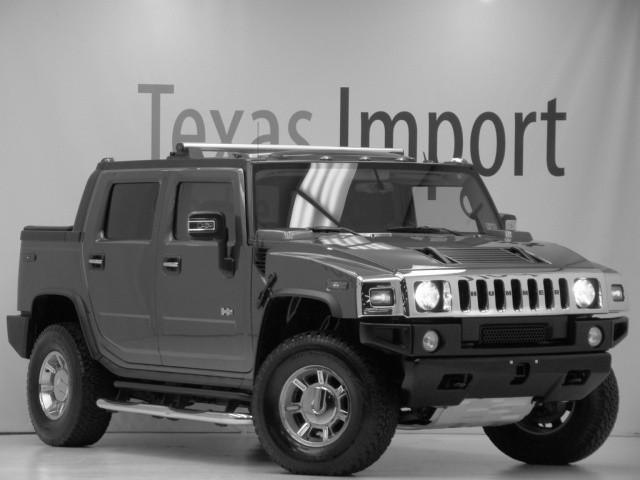car: (7, 145, 631, 475)
